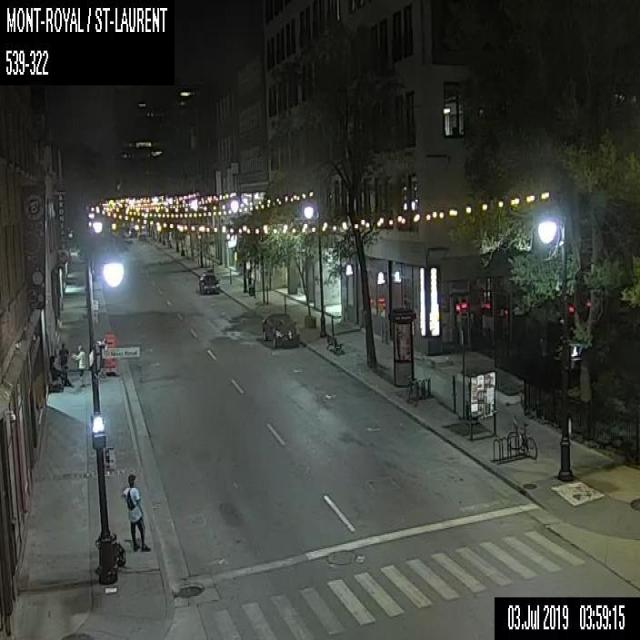construction: (103, 332, 116, 376)
pedestrian: (122, 473, 151, 552), (46, 354, 72, 387), (55, 340, 71, 388), (74, 338, 86, 386)
vehicle: (260, 311, 300, 348), (197, 269, 219, 295)
